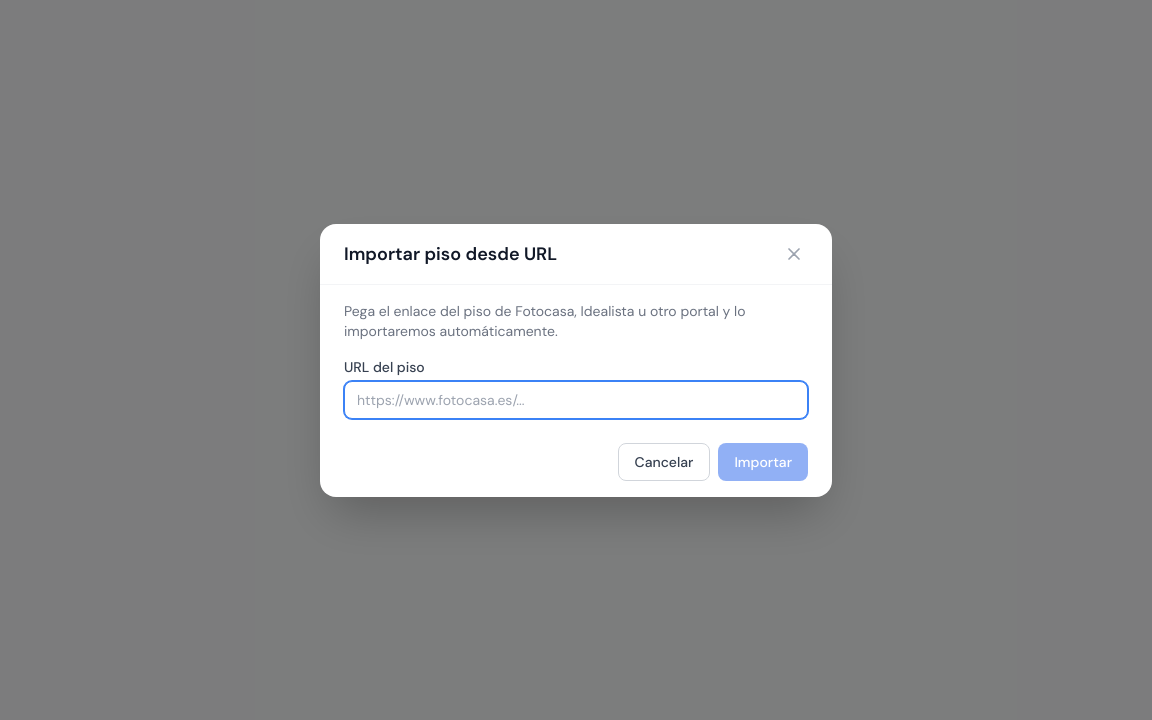
Test: ImportFromUrlModal › shows error message at failed step on error event
Type "https://idealista.com/inmueble/1" into the field with placeholder "https://www.fotocasa.es/...".
click(576, 400); type("https://idealista.com/inmueble/1")  # box x1=344 y1=380 x2=808 y2=418
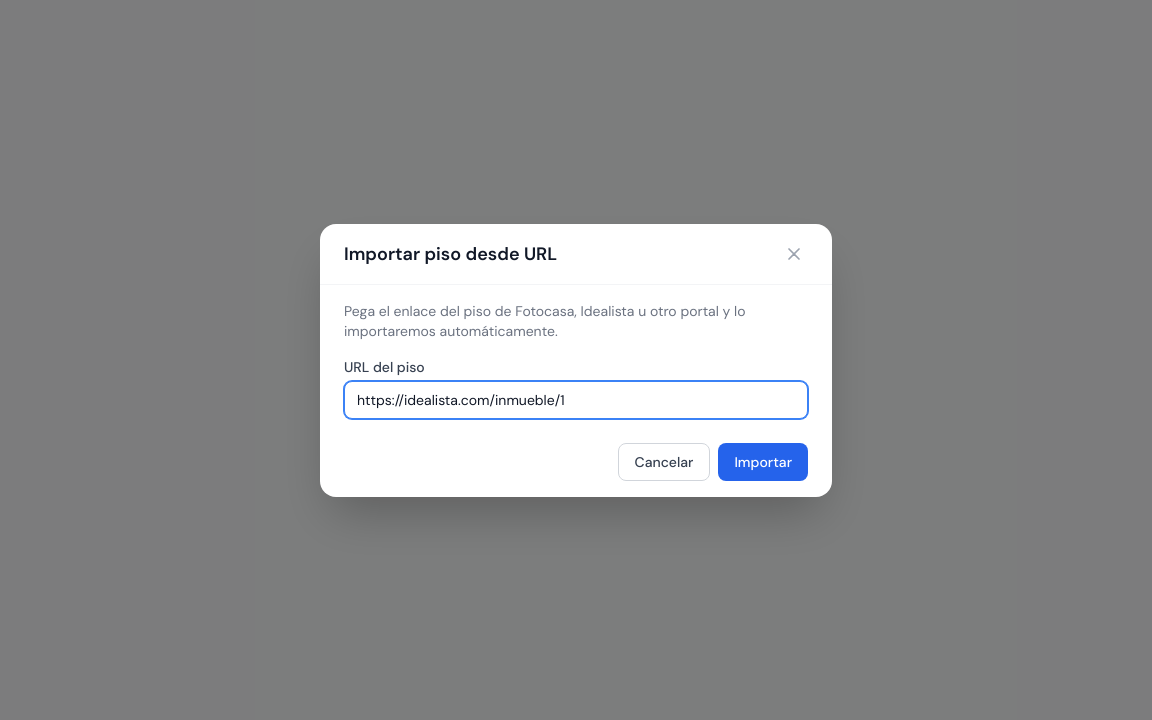
Click the button "Importar".
click(763, 462)  # box x1=718 y1=442 x2=808 y2=480
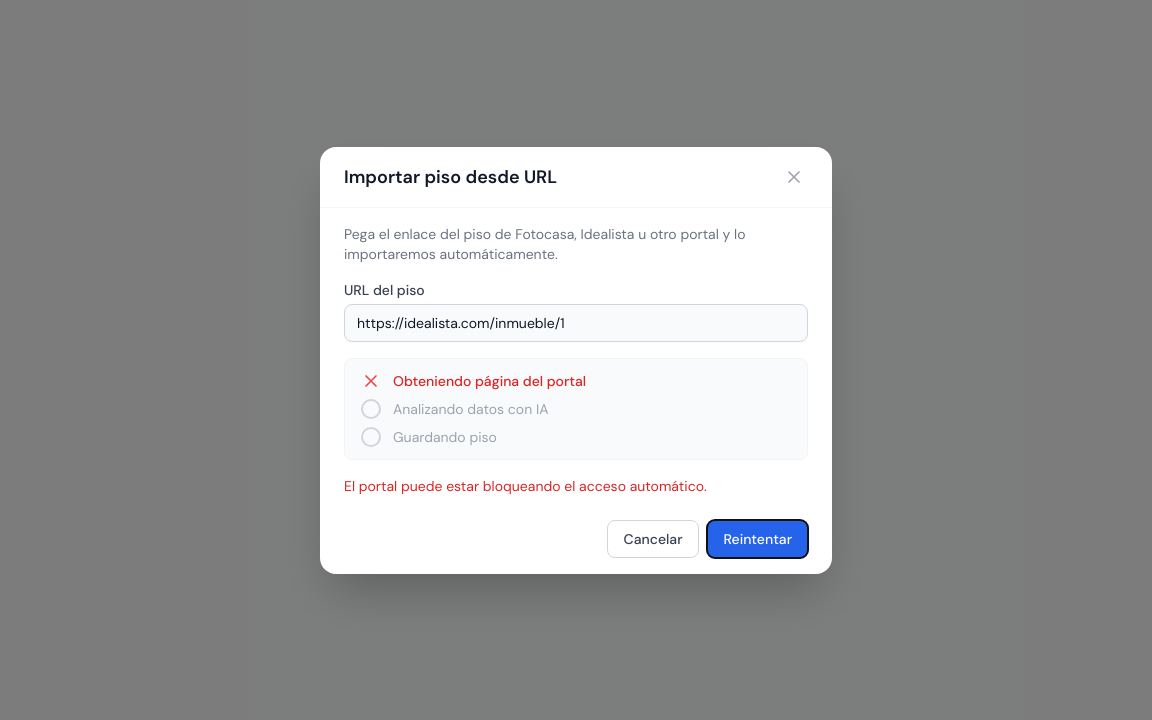
expect the text "El portal puede estar bloqueando el acceso automático." is shown: met, box x1=344 y1=476 x2=707 y2=494
expect the button "Reintentar" is shown: met, box x1=708 y1=520 x2=808 y2=558
